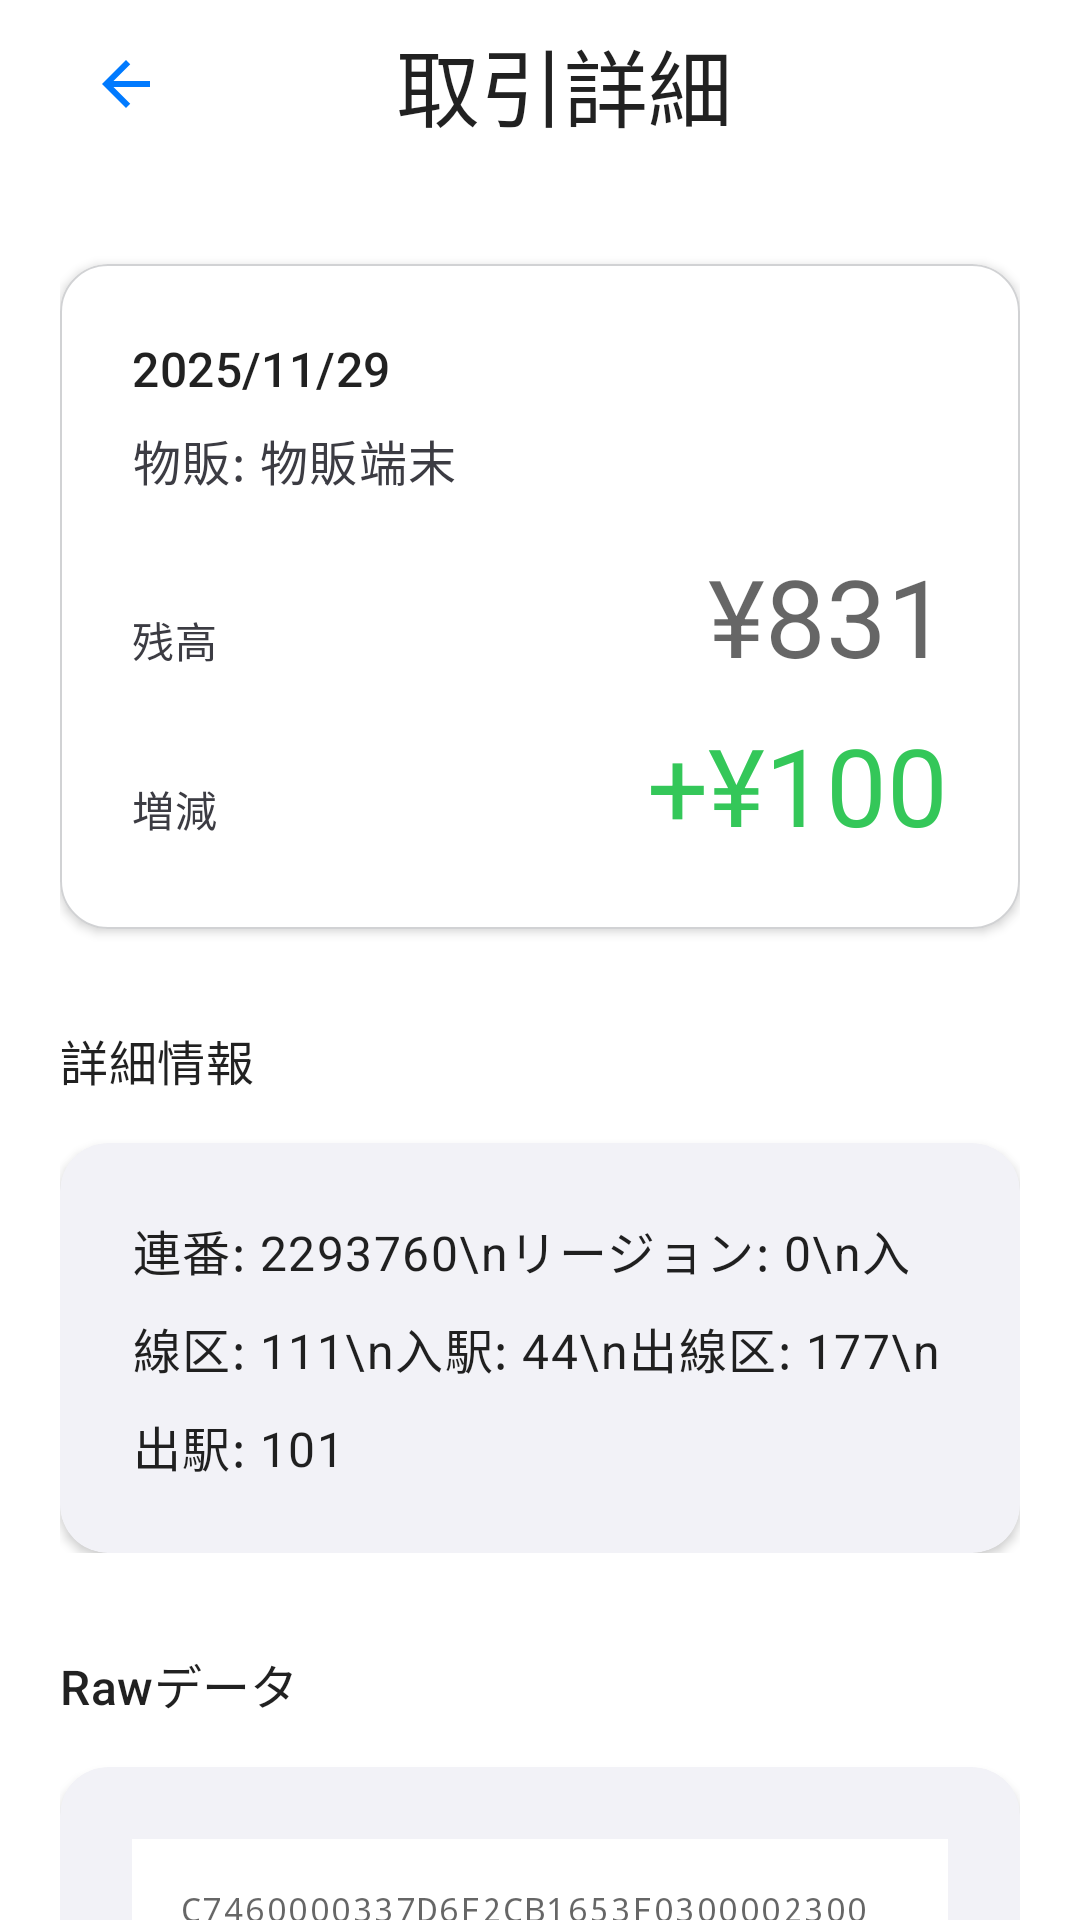

Where to tap for icons on this 1080 x 1920 app screen, as (x=x, y=y):
戻る: (x=126, y=84)
